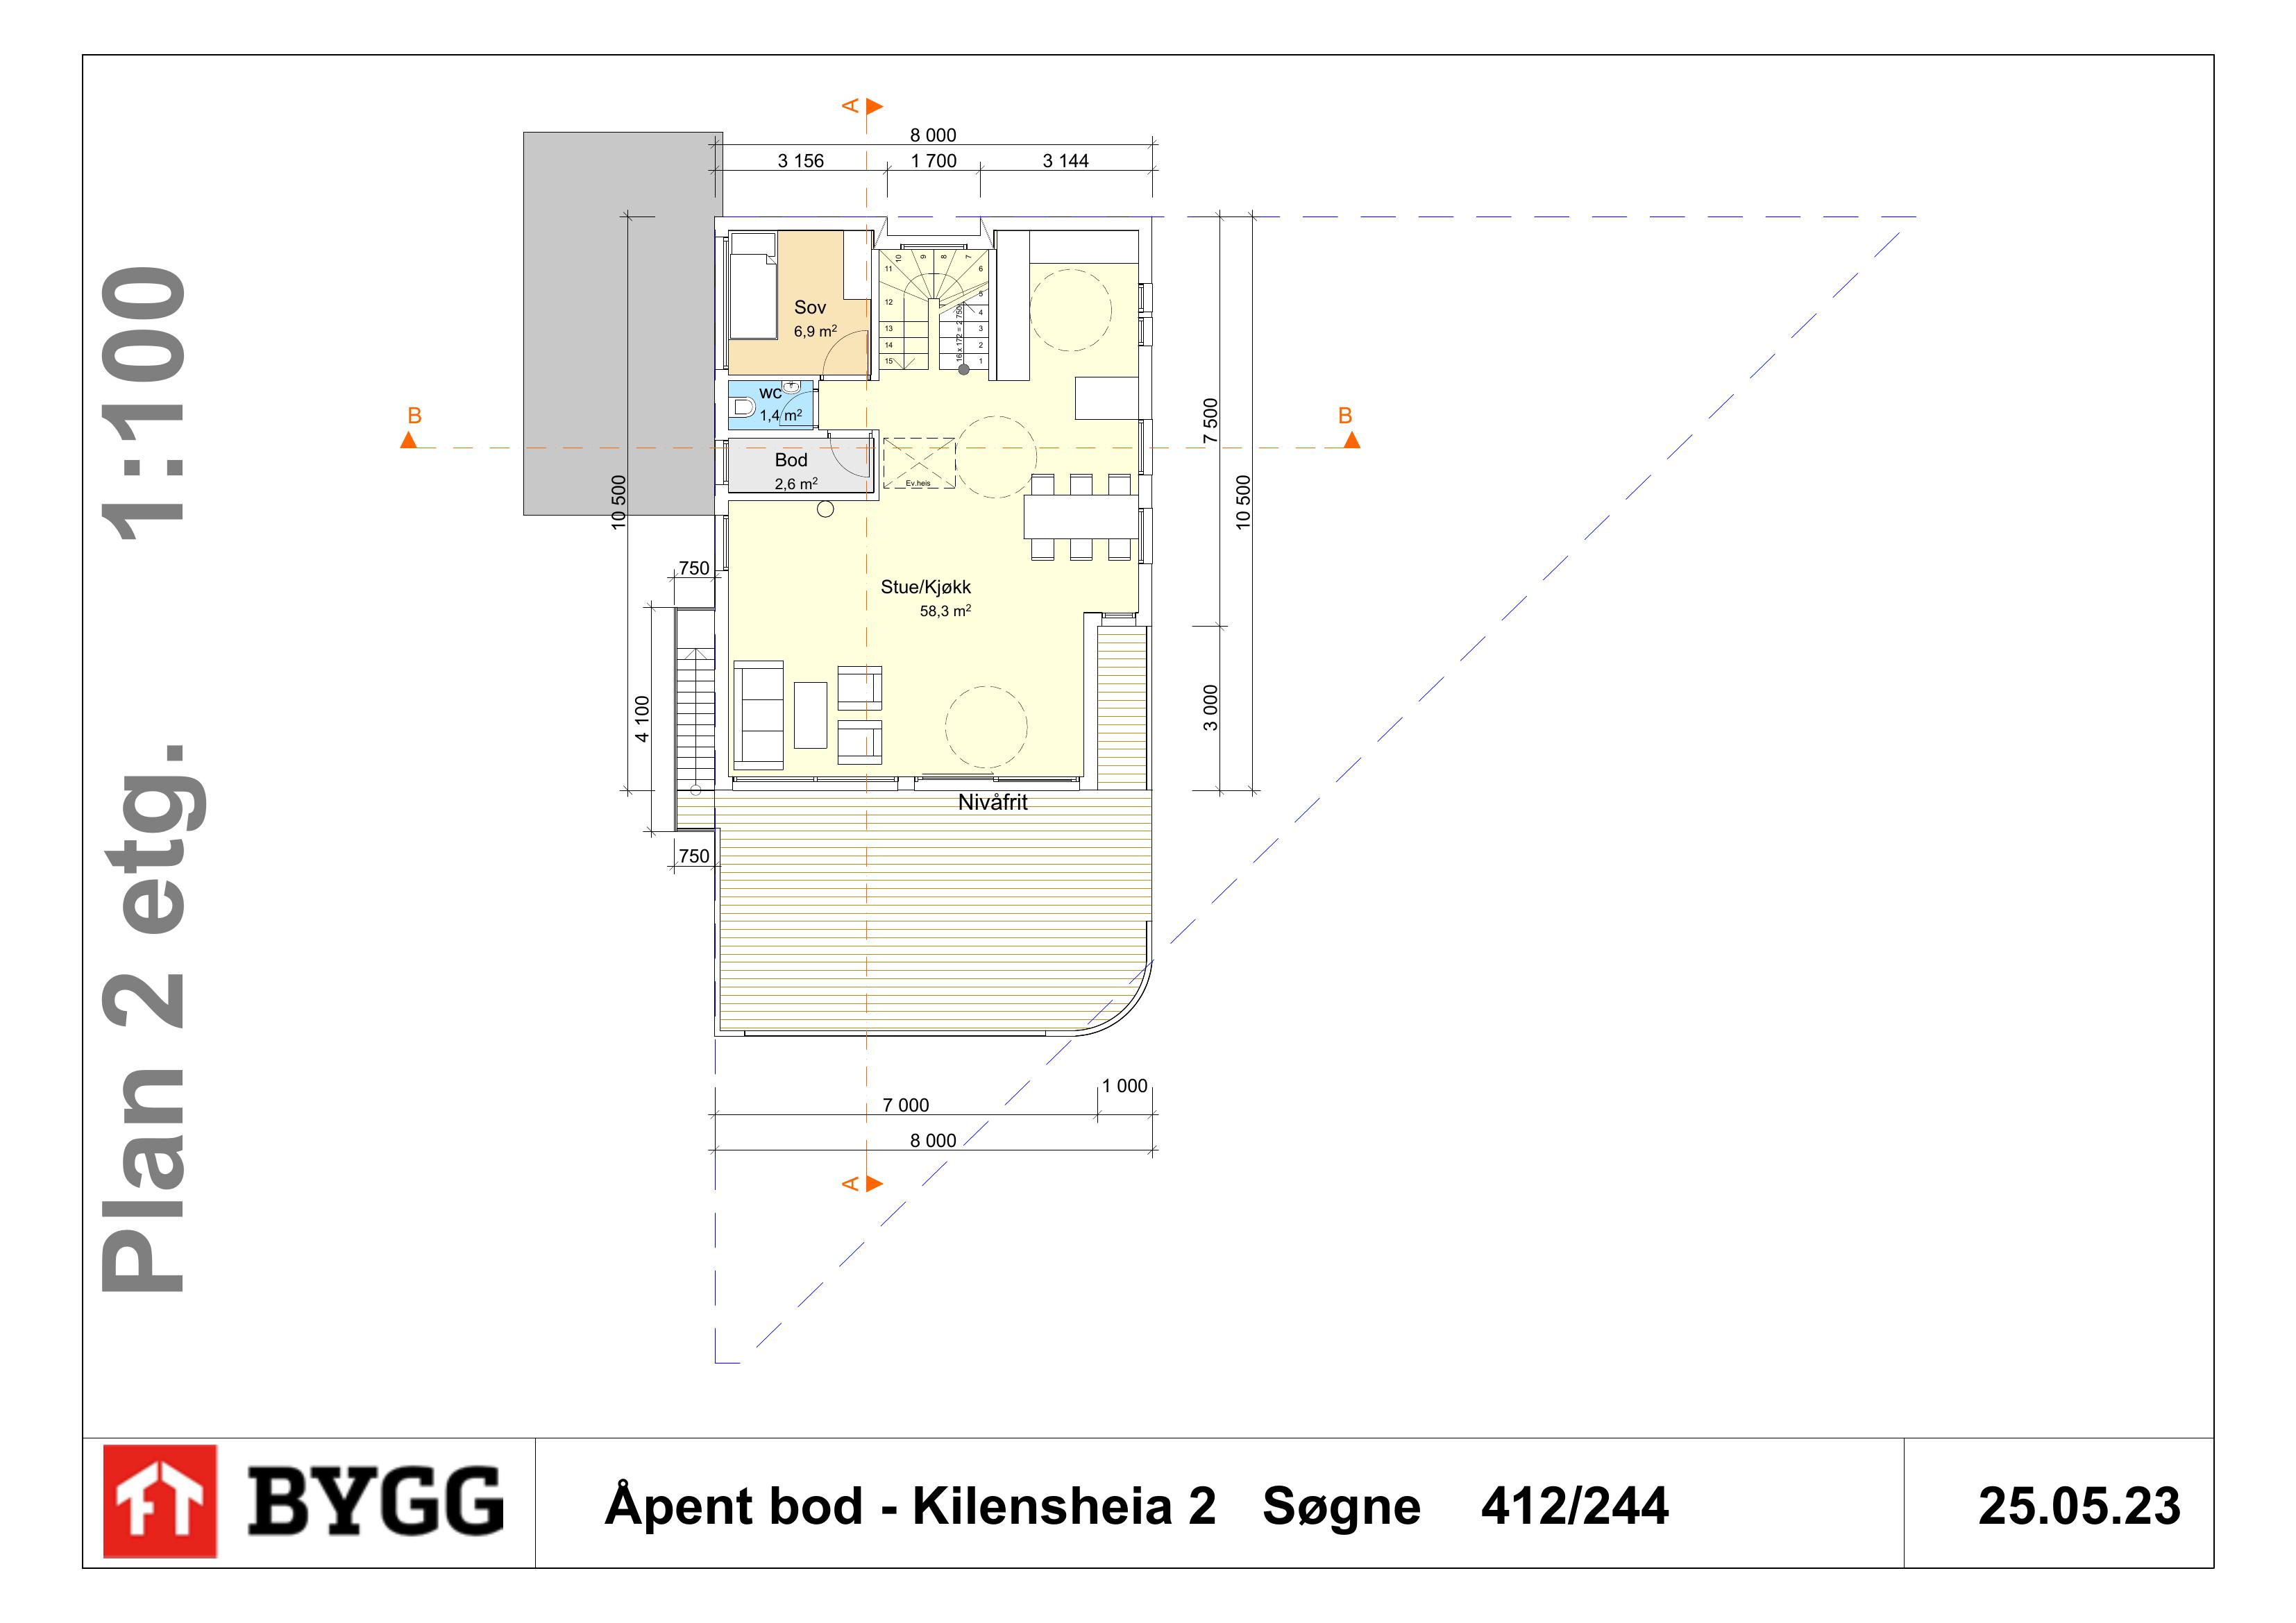plantegning: (650, 203, 1191, 1055)
